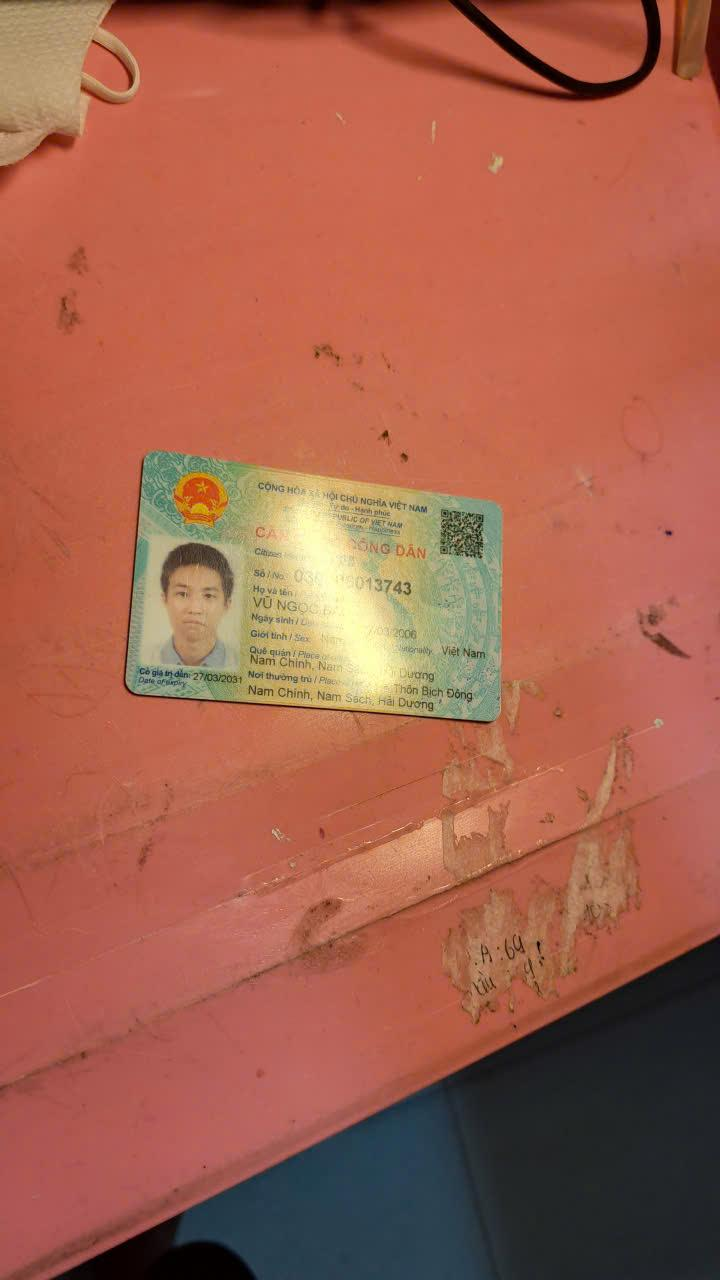cccd: (112, 435, 510, 737)
